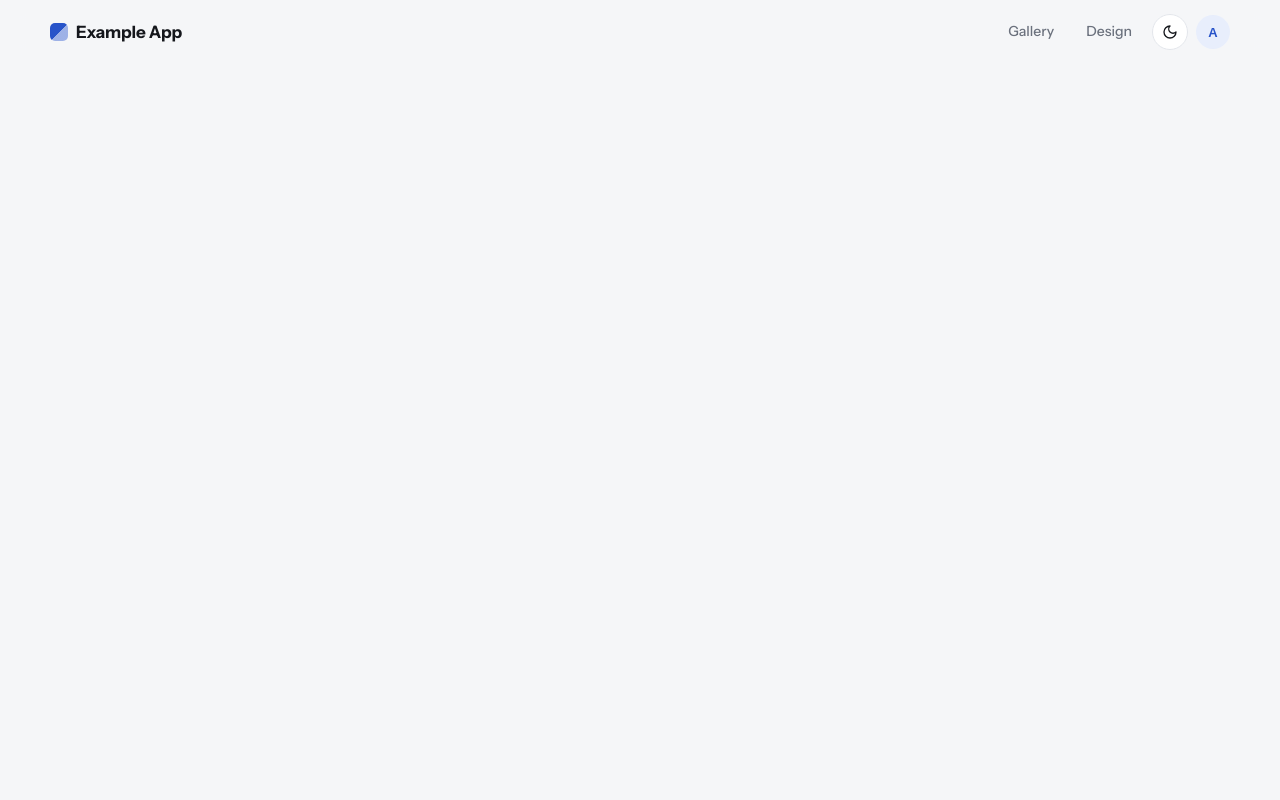
it: NavBar › closes the panel on backdrop click
This screenshot has width=1280, height=800.
What coordinates should you click on to do the following:
click the button named "Account"
I would click on:
 (1213, 32)
Its box is [1196,15,1230,49].
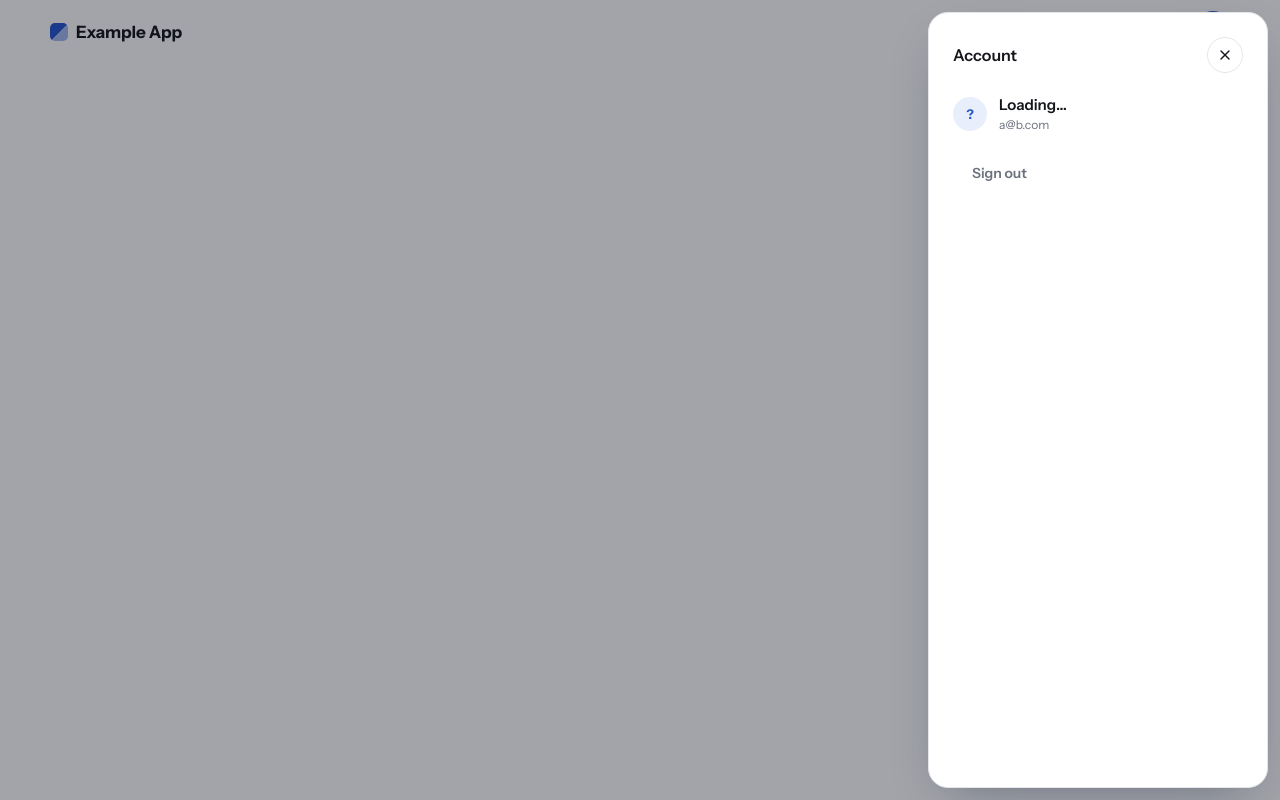
Now the dialog "Account" is shown, box [928,12,1268,788]
The backdrop is the dialog's positioning parent, not the dialog itself.
What coordinates should you click on to do the following:
click the element showing "Account ? Loading… a@b.com Sign out"
I would click on:
 (640, 400)
Its box is [0,0,1279,799].
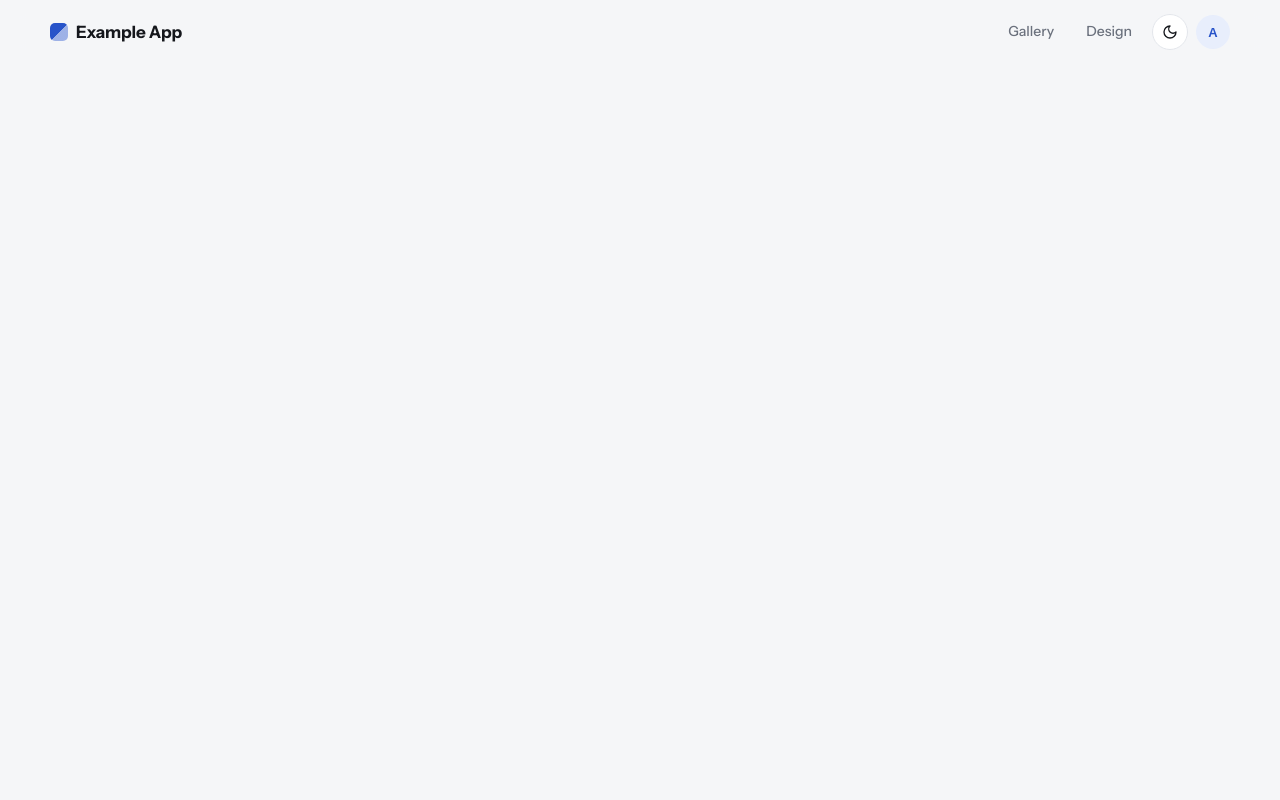
Now the text "Account" is gone
